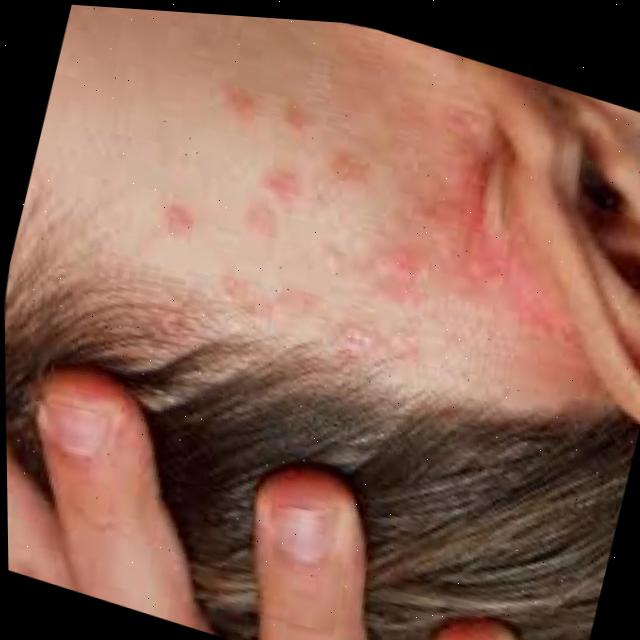Shingles: (141, 85, 449, 383), (428, 221, 575, 366)
